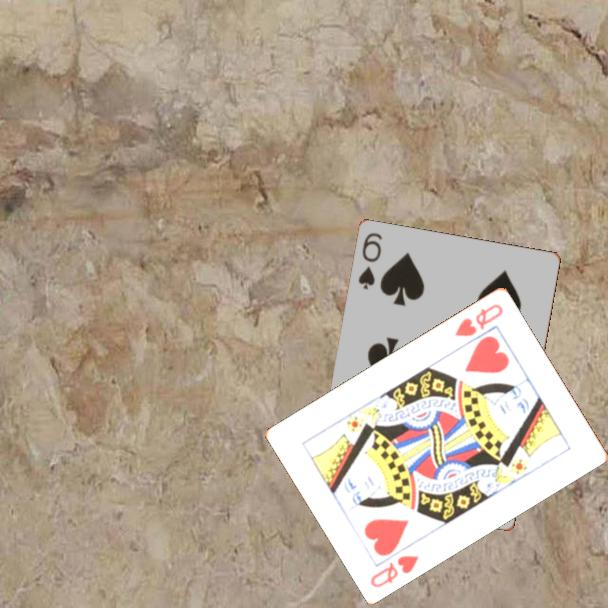h12: (451, 300, 506, 339), (367, 551, 422, 590)
s06: (355, 229, 385, 293)
